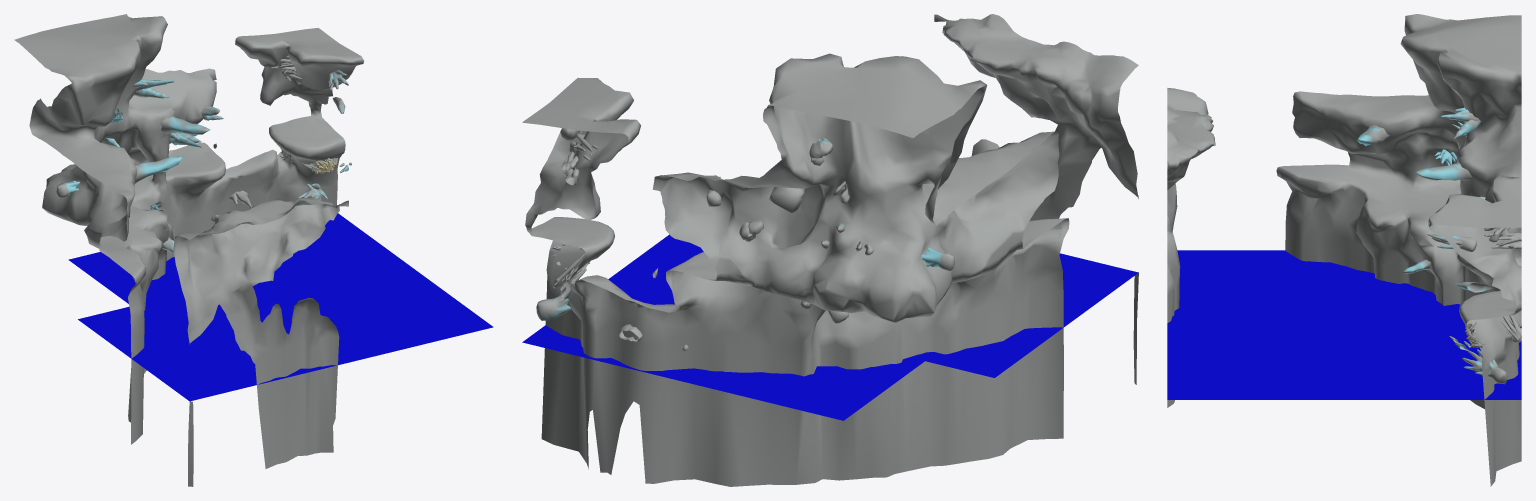
3 views of the same model, side by side, from view 1: azimuth 30°, elevation 25°; view 2: azimuth 150°, elevation 25°; view 3: azimuth 270°, elevation 25° (orthographic). The views are drawn at different scales.
Visible parts, largest first — view 1: G:\FFXIV-MapTools\exports\l1f1\bg\ffxiv\lak_l1\fld\l1f1\bgpl (×19); view 2: G:\FFXIV-MapTools\exports\l1f1\bg\ffxiv\lak_l1\fld\l1f1\bgpl (×18); view 3: G:\FFXIV-MapTools\exports\l1f1\bg\ffxiv\lak_l1\fld\l1f1\bgpl (×21).
Boxes of the visible parts, x1,y1,x2,y2 form: G:\FFXIV-MapTools\exports\l1f1\bg\ffxiv\lak_l1\fld\l1f1\bgpl (×19): (14, 14, 493, 486); G:\FFXIV-MapTools\exports\l1f1\bg\ffxiv\lak_l1\fld\l1f1\bgpl (×18): (522, 14, 1138, 486); G:\FFXIV-MapTools\exports\l1f1\bg\ffxiv\lak_l1\fld\l1f1\bgpl (×21): (1167, 14, 1521, 486).
Size of the model in its own units: 128 by 133 by 128.
